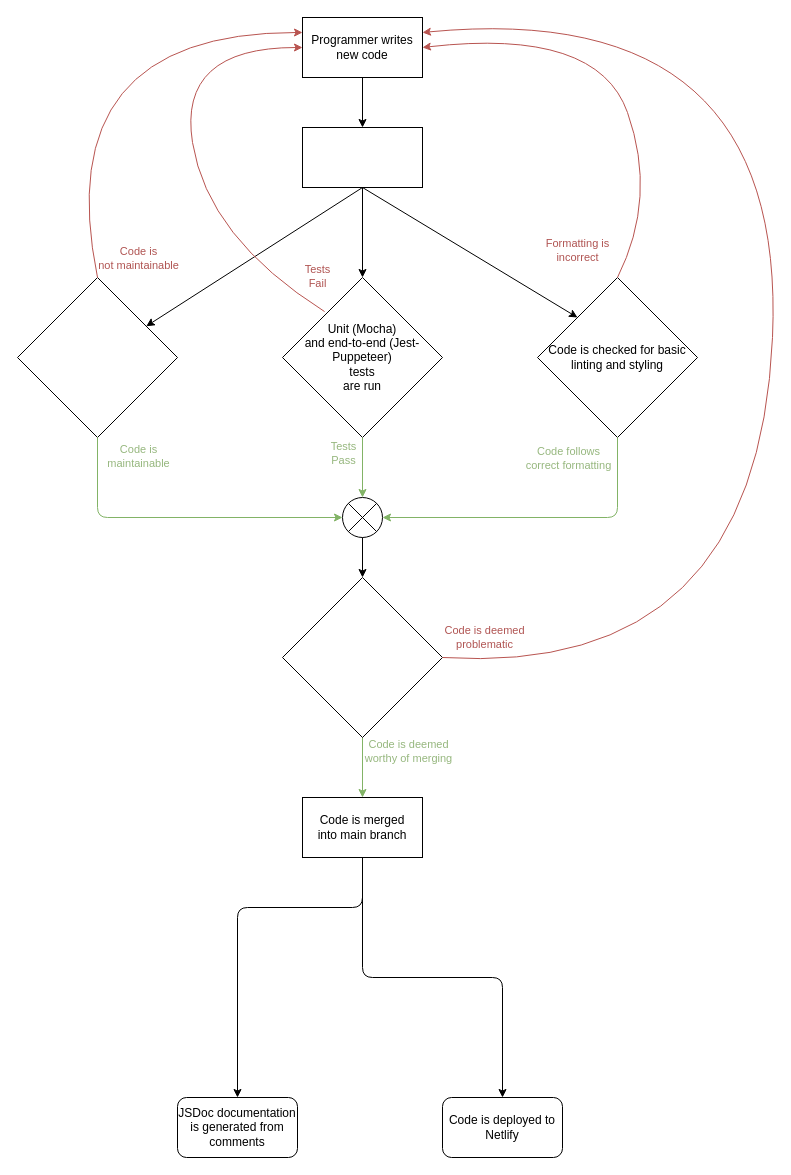
Some shapes in this 791 by 1175 pixel diagram are drawn without their labels. The shapes that lost their labels are listed below. From the top down, each one's centre as x and y in pixels, then its label:
At pixel 362 157: "Programmer creates new branch and corresponding PR".
At pixel 97 357: "Code is checked by CodeClimate for complexity and maintainability".
At pixel 362 657: "Manual review by code owner".
